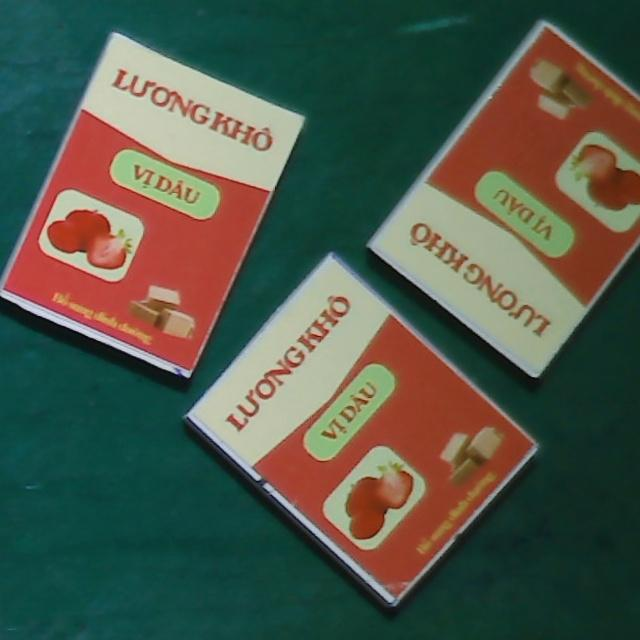dau: (179, 250, 545, 611), (0, 30, 305, 380)
